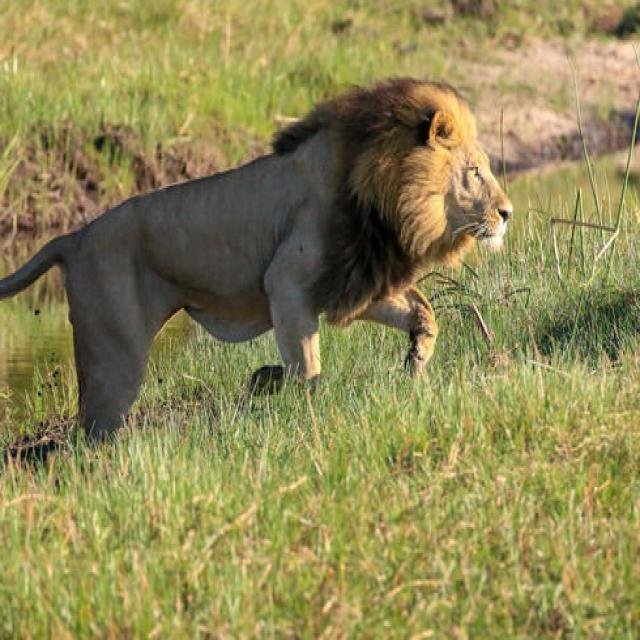lions: (12, 64, 563, 478)
